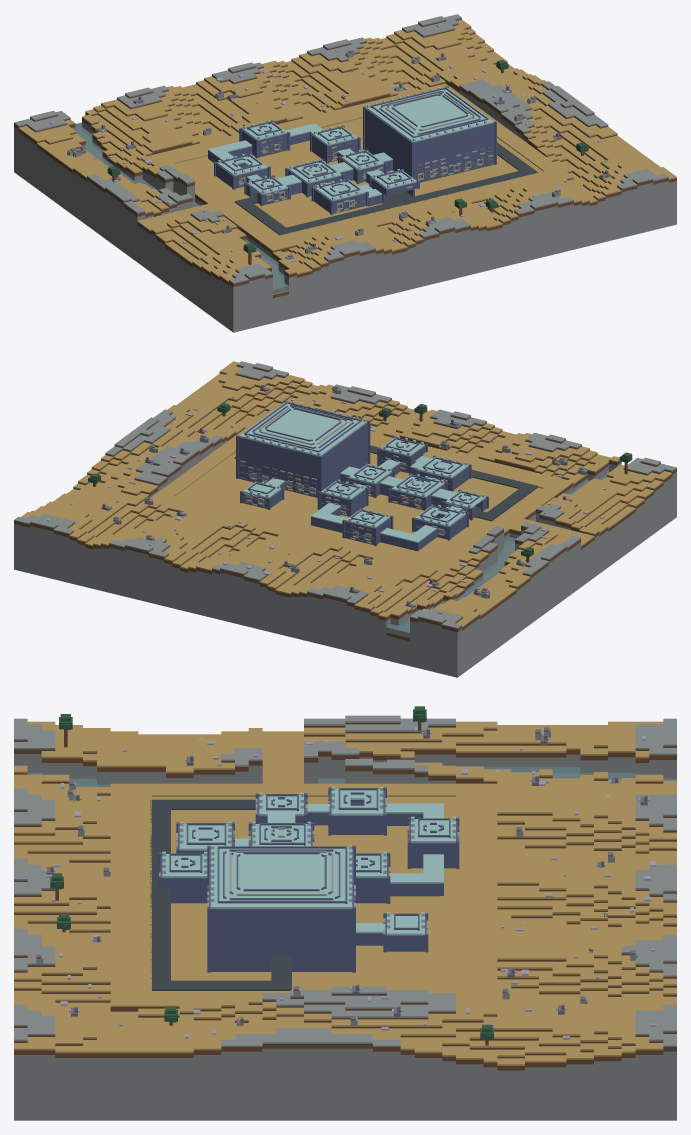
The model's file is anomaly.glb.
3 views of the same model, one above another, from view 1: azimuth 30°, elevation 25°; view 2: azimuth 150°, elevation 25°; view 3: azimuth 270°, elevation 25° (orthographic). The views are drawn at different scales.
Visible parts, largest first — view 1: anomaly/surface, anomaly/terrain, anomaly/anomaly_dungeon/room_walls, anomaly/anomaly_dungeon/roof_arena, anomaly/anomaly_dungeon/exterior_details, anomaly/anomaly_dungeon/floor_mesh, anomaly/vegetation, anomaly/watercourses, anomaly/anomaly_dungeon/corridor_walls, anomaly/outcrops, anomaly/overlay, anomaly/anomaly_dungeon/roof_workshop (+6 smaller); view 2: anomaly/surface, anomaly/terrain, anomaly/anomaly_dungeon/room_walls, anomaly/anomaly_dungeon/roof_arena, anomaly/anomaly_dungeon/exterior_details, anomaly/vegetation, anomaly/anomaly_dungeon/corridor_walls, anomaly/anomaly_dungeon/floor_mesh, anomaly/watercourses, anomaly/outcrops, anomaly/overlay, anomaly/anomaly_dungeon/roof_workshop (+6 smaller); view 3: anomaly/surface, anomaly/terrain, anomaly/anomaly_dungeon/room_walls, anomaly/anomaly_dungeon/roof_arena, anomaly/anomaly_dungeon/floor_mesh, anomaly/vegetation, anomaly/anomaly_dungeon/exterior_details, anomaly/anomaly_dungeon/corridor_walls, anomaly/anomaly_dungeon/roof_production, anomaly/anomaly_dungeon/roof_workshop, anomaly/anomaly_dungeon/roof_cistern, anomaly/watercourses (+7 smaller).
Boxes of the visible parts, x1,y1,x2,y2 form: anomaly/surface: (14,14,676,294); anomaly/terrain: (14,18,676,332); anomaly/anomaly_dungeon/room_walls: (216,108,494,213); anomaly/anomaly_dungeon/roof_arena: (366,87,493,141); anomaly/anomaly_dungeon/exterior_details: (214,86,496,214); anomaly/anomaly_dungeon/floor_mesh: (234,142,538,235); anomaly/vegetation: (50,24,607,264); anomaly/watercourses: (75,122,288,293); anomaly/anomaly_dungeon/corridor_walls: (208,132,392,206); anomaly/outcrops: (67,50,560,259); anomaly/overlay: (80,53,610,249); anomaly/anomaly_dungeon/roof_workshop: (288,160,341,183); anomaly/surface: (14,361,676,637); anomaly/terrain: (14,365,676,677); anomaly/anomaly_dungeon/room_walls: (238,422,486,544); anomaly/anomaly_dungeon/roof_arena: (239,401,367,456); anomaly/anomaly_dungeon/exterior_details: (236,400,488,545); anomaly/vegetation: (46,396,632,613); anomaly/anomaly_dungeon/corridor_walls: (280,462,461,551); anomaly/anomaly_dungeon/floor_mesh: (234,445,538,536); anomaly/watercourses: (386,472,609,636); anomaly/outcrops: (113,386,586,598); anomaly/overlay: (101,384,572,608); anomaly/anomaly_dungeon/roof_workshop: (391,474,444,497); anomaly/surface: (14,715,676,1065); anomaly/terrain: (14,723,676,1120); anomaly/anomaly_dungeon/room_walls: (160,790,457,971); anomaly/anomaly_dungeon/roof_arena: (210,845,352,908); anomaly/anomaly_dungeon/floor_mesh: (150,799,439,990); anomaly/vegetation: (43,706,656,1045); anomaly/anomaly_dungeon/exterior_details: (159,787,459,972); anomaly/anomaly_dungeon/corridor_walls: (307,812,443,945); anomaly/anomaly_dungeon/roof_production: (331,786,383,815); anomaly/anomaly_dungeon/roof_workshop: (252,821,310,846); anomaly/anomaly_dungeon/roof_cistern: (179,821,231,850); anomaly/watercourses: (27,767,676,786).
Size of the model in its own units: 224 by 42.5 by 192.
